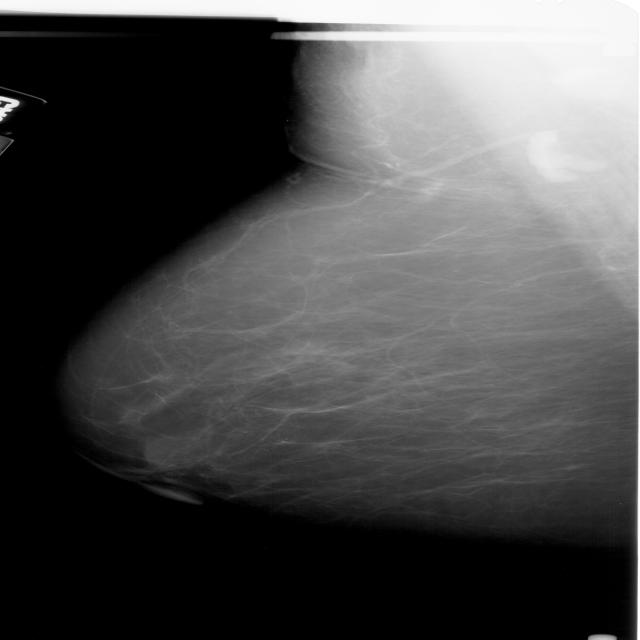normal: (43, 122, 640, 540)
